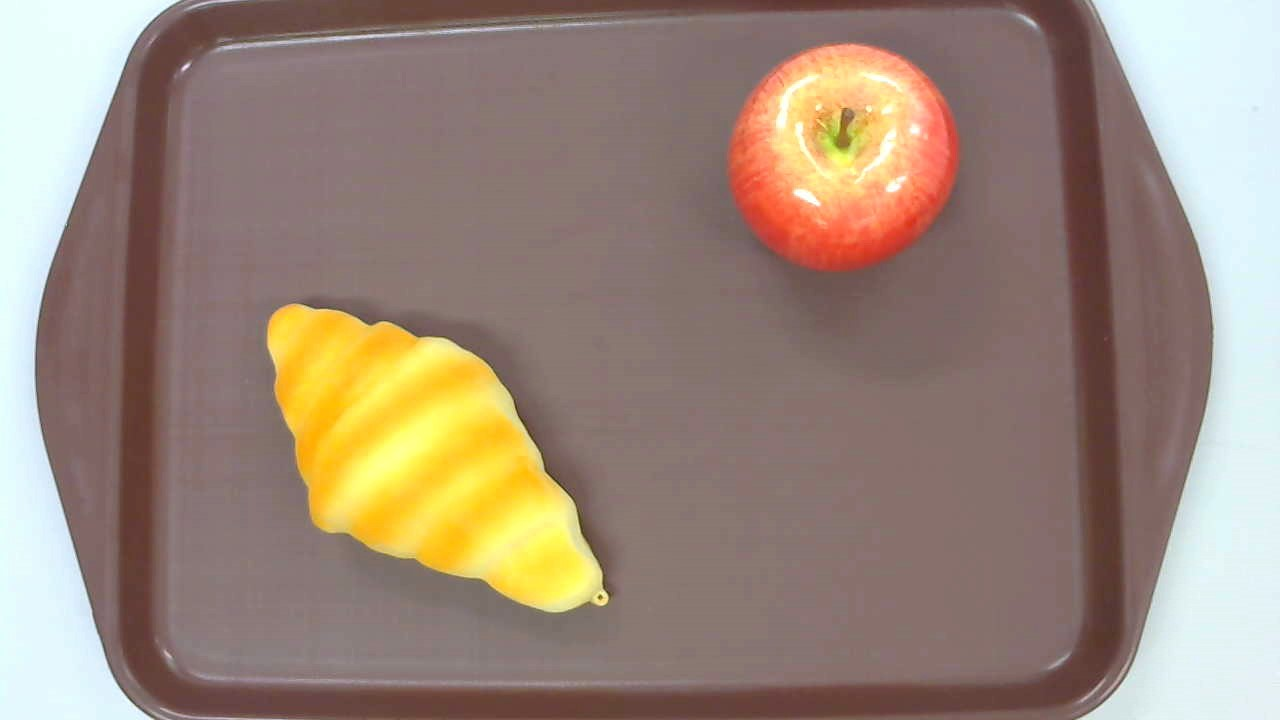croissant: (266, 304, 611, 613)
red apple: (727, 43, 959, 272)
